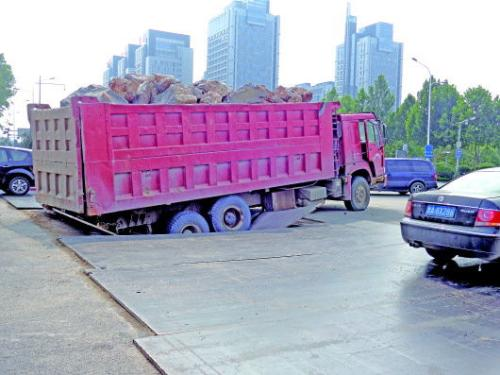chaozhai: (25, 63, 388, 231)
